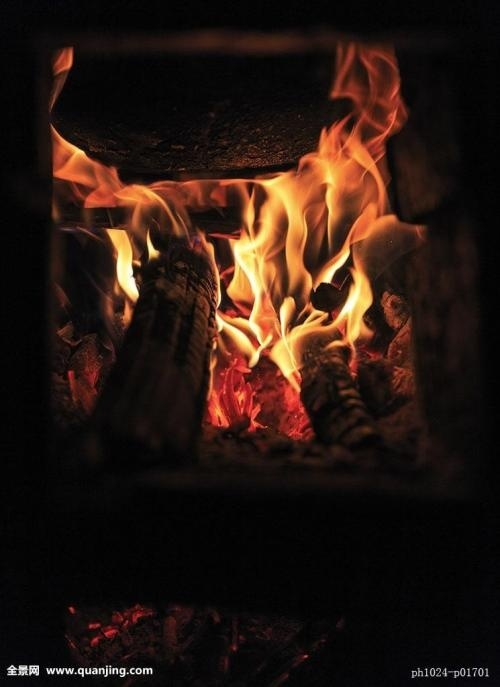fire: (203, 28, 419, 403)
